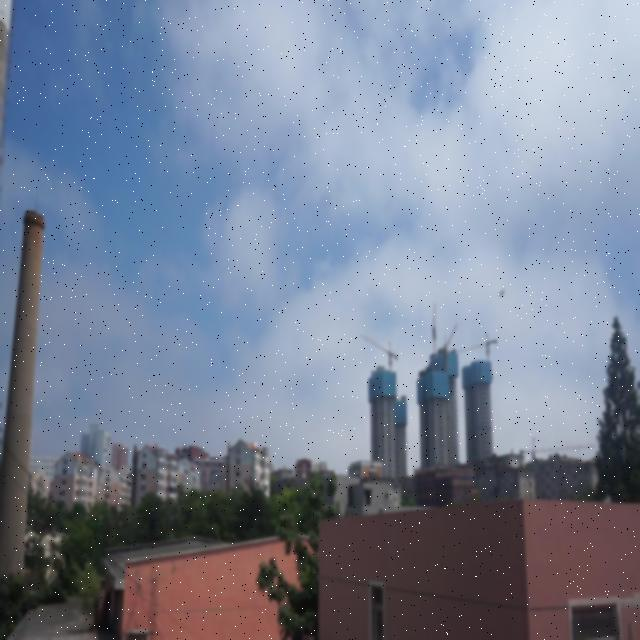UAV: (496, 287, 506, 298)
